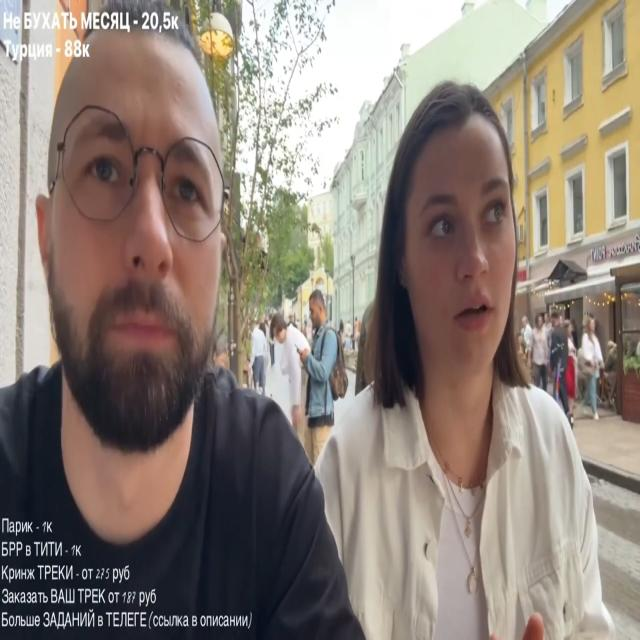Person: (0, 13, 364, 638), (298, 80, 624, 639), (298, 293, 344, 467), (262, 313, 311, 448), (574, 318, 606, 422), (532, 318, 551, 391)
